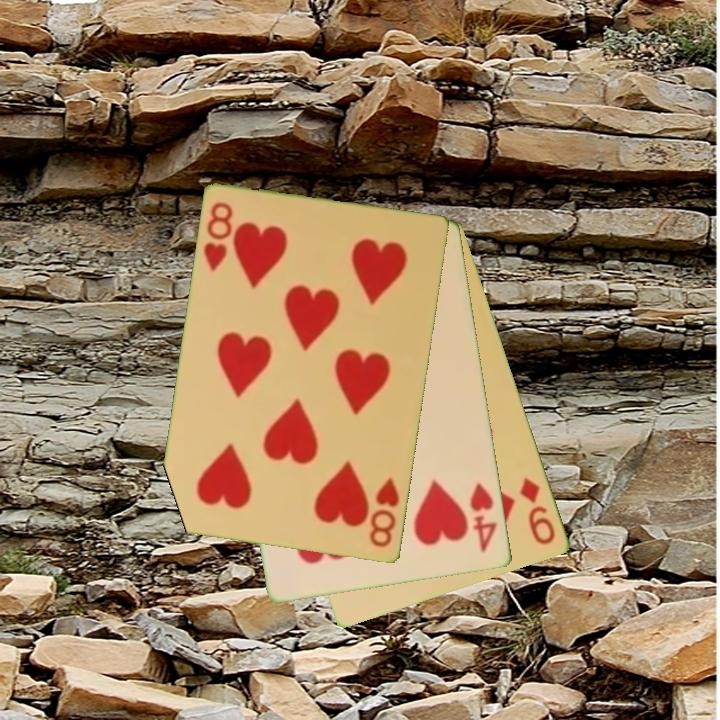4h: (467, 479, 501, 556)
8h: (366, 474, 403, 551), (200, 199, 236, 275)
9d: (516, 474, 559, 548)
